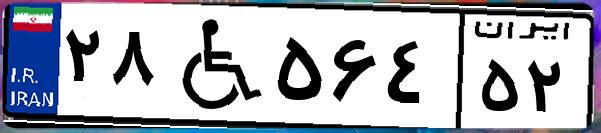2: (57, 26, 110, 100), (525, 38, 570, 115)
4: (385, 28, 445, 110)
5: (270, 28, 330, 110), (475, 38, 525, 113)
6: (330, 28, 385, 110)
8: (110, 28, 158, 98)
ژ (معلولین و جانبازان): (158, 12, 270, 120)
